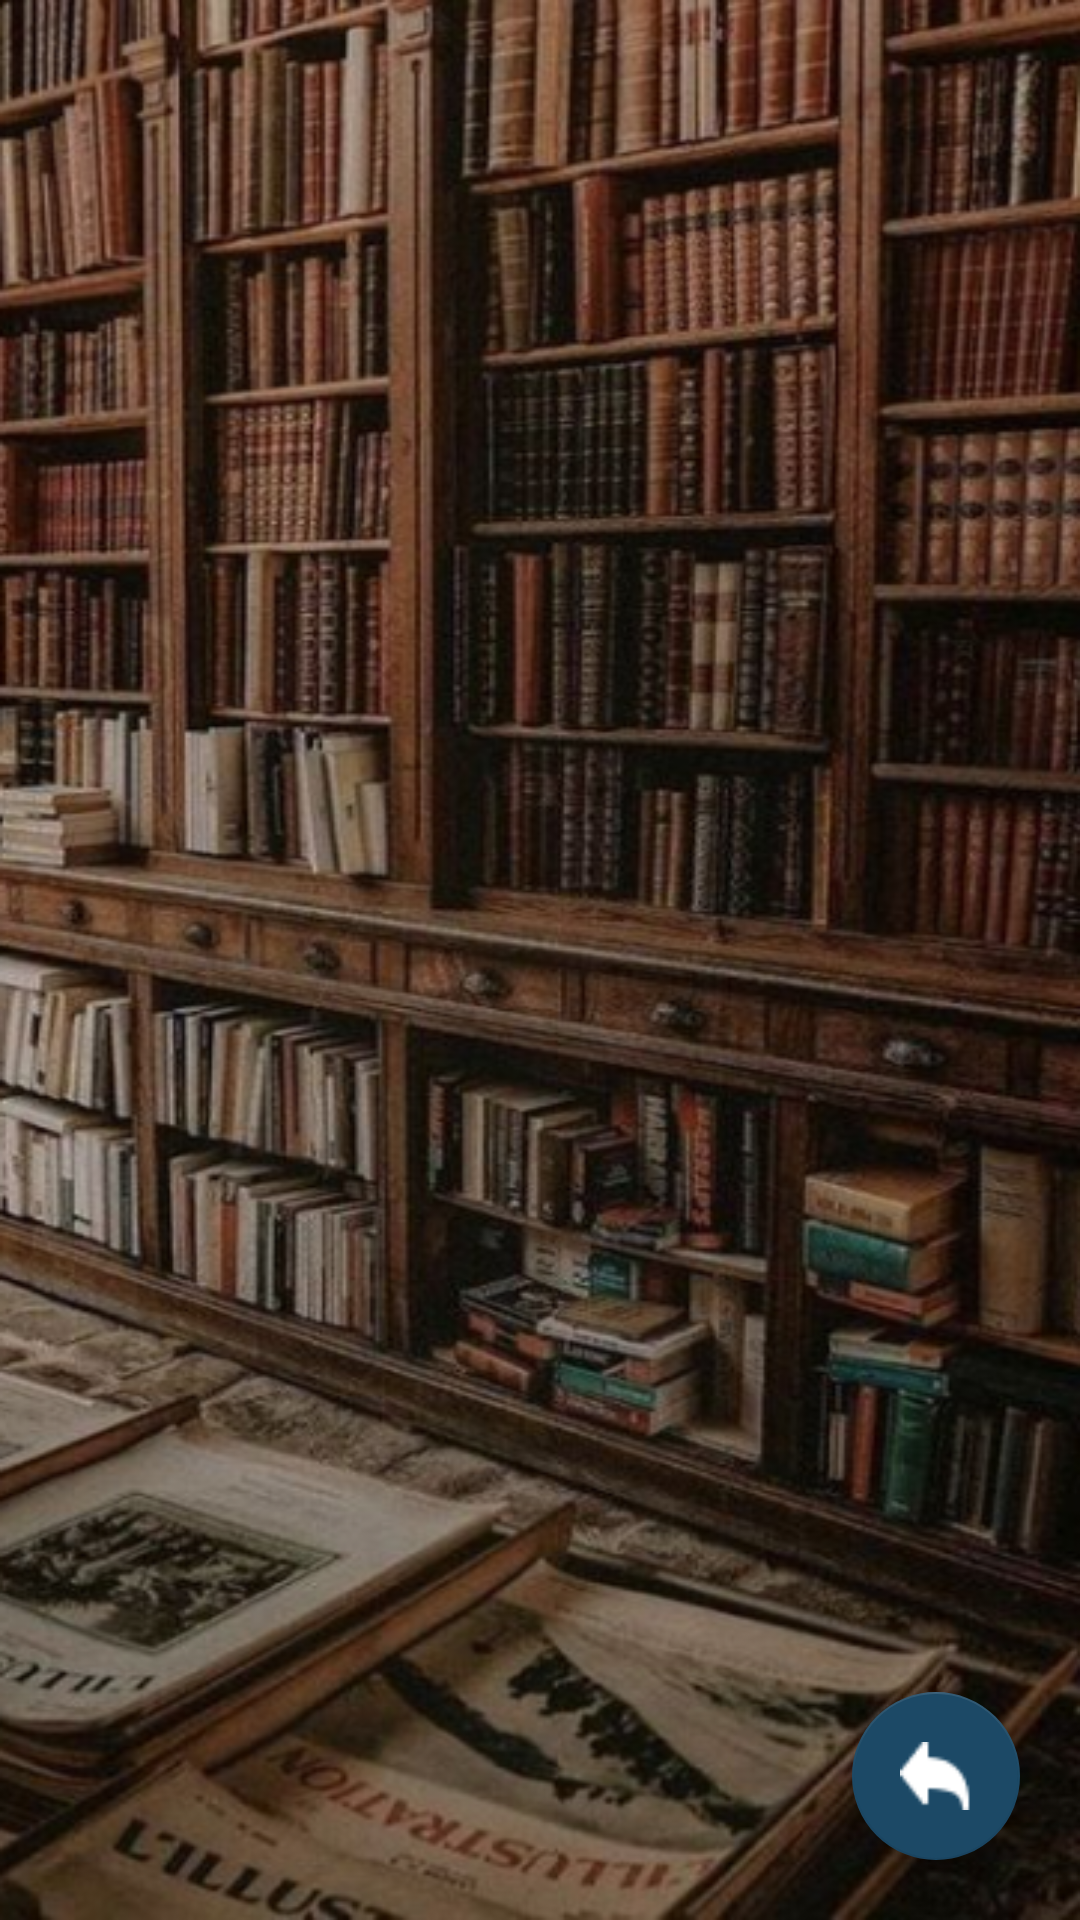

Screen size 1080px x 1920px. Icon name, then its box in pixels as bbox=(x1, y1, x2, y2):
back: bbox=(852, 1692, 1020, 1860)
